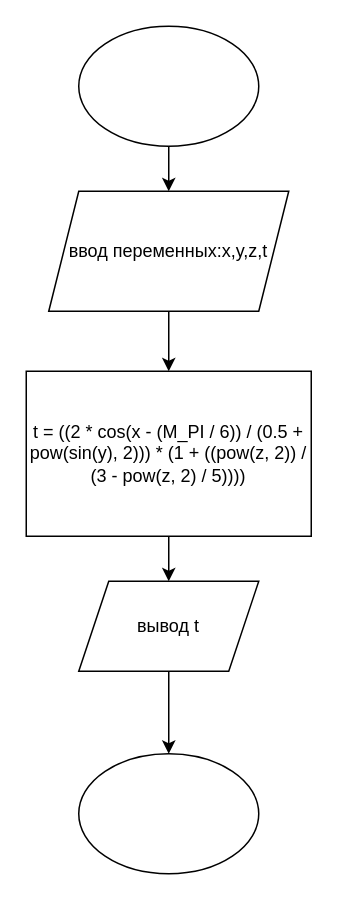
The diagram is 338 pixels wide and 900 high, and some of its shapes have lost their labels. The shapes that lost their labels are listed below. From the top down, each one's centre as x and y in pixels, then its label:
pixel 168 85: начало
pixel 168 813: конец
